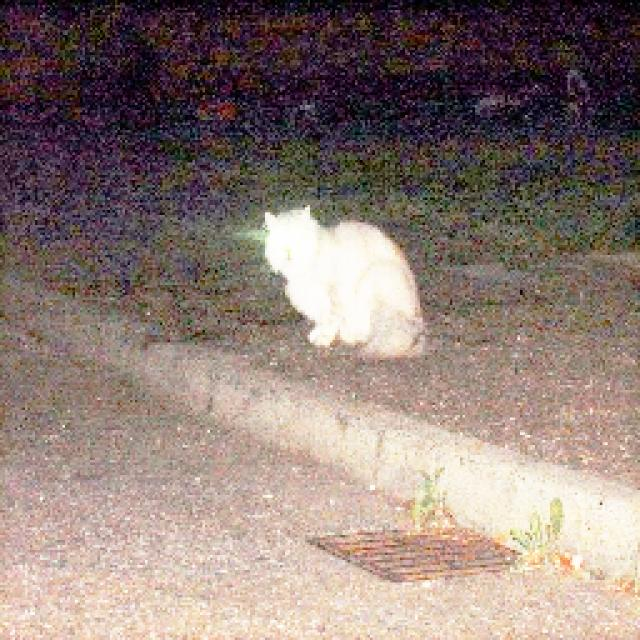cat: (259, 203, 443, 365)
